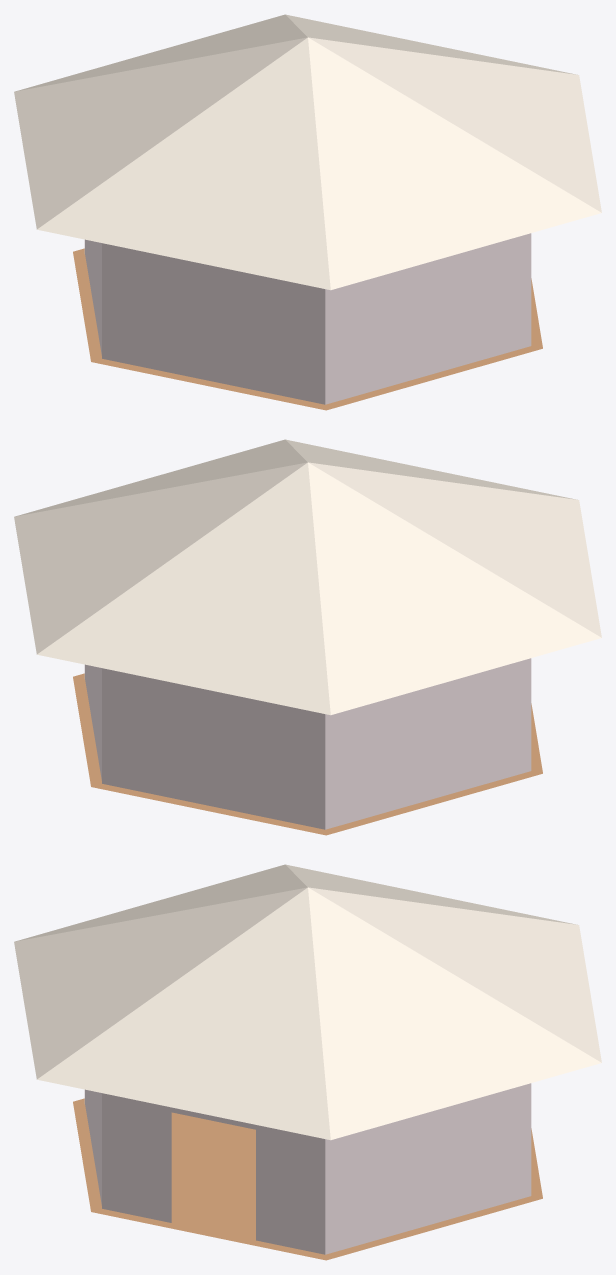
Rendered from zon_room_wardrobe_raw.glb.
The picture shows the model from 3 angles, top to bottom: view 1: azimuth 30°, elevation 25°; view 2: azimuth 150°, elevation 25°; view 3: azimuth 270°, elevation 25°; orthographic projection.
Visible parts, largest first — view 1: SM_zon_room_wardrobe_room_ceiling_xm1_zm1_raw, SM_zon_room_wardrobe_room_paper_xm1_zm1_raw, SM_zon_room_wardrobe_room_floor_xm1_zm1_raw; view 2: SM_zon_room_wardrobe_room_ceiling_xm1_zm1_raw, SM_zon_room_wardrobe_room_paper_xm1_zm1_raw, SM_zon_room_wardrobe_room_floor_xm1_zm1_raw; view 3: SM_zon_room_wardrobe_room_ceiling_xm1_zm1_raw, SM_zon_room_wardrobe_room_paper_xm1_zm1_raw, SM_zon_room_wardrobe_room_floor_xm1_zm1_raw.
Boxes of the visible parts, bbox=[...] form: SM_zon_room_wardrobe_room_ceiling_xm1_zm1_raw: bbox=[14, 14, 601, 290]; SM_zon_room_wardrobe_room_paper_xm1_zm1_raw: bbox=[84, 233, 531, 404]; SM_zon_room_wardrobe_room_floor_xm1_zm1_raw: bbox=[73, 248, 542, 410]; SM_zon_room_wardrobe_room_ceiling_xm1_zm1_raw: bbox=[14, 439, 601, 715]; SM_zon_room_wardrobe_room_paper_xm1_zm1_raw: bbox=[84, 658, 531, 829]; SM_zon_room_wardrobe_room_floor_xm1_zm1_raw: bbox=[73, 673, 542, 835]; SM_zon_room_wardrobe_room_ceiling_xm1_zm1_raw: bbox=[14, 864, 601, 1140]; SM_zon_room_wardrobe_room_paper_xm1_zm1_raw: bbox=[84, 1083, 531, 1254]; SM_zon_room_wardrobe_room_floor_xm1_zm1_raw: bbox=[73, 1098, 542, 1260].
Bounding box in the file's own units: 13.22 × 5.9 × 11.91.
